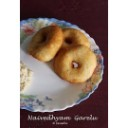vada: (55, 46, 97, 82), (33, 26, 61, 59), (62, 24, 91, 53)
